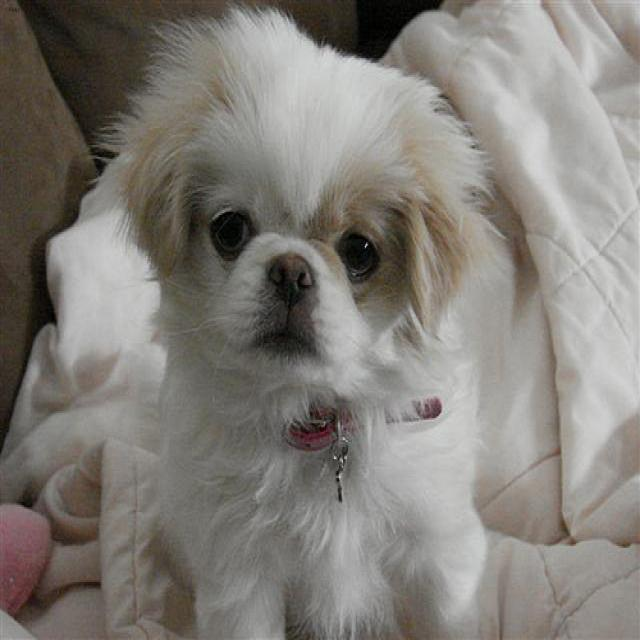dog-japanese_chin: (86, 2, 521, 637)
